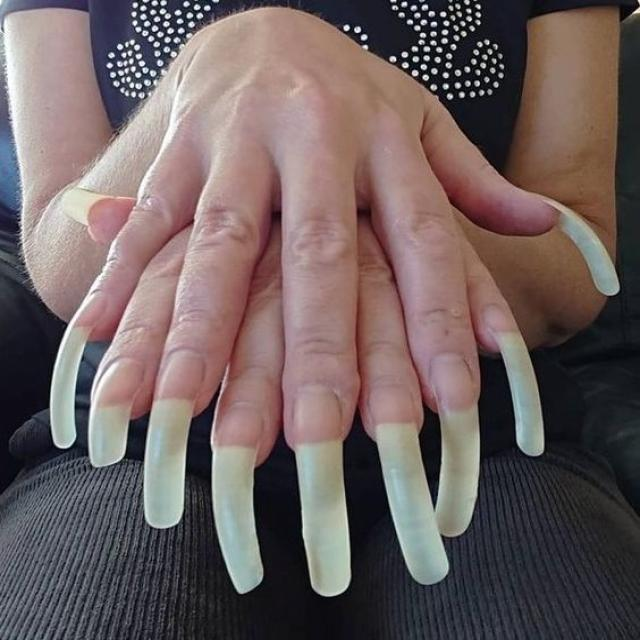Fingernail: (369, 375, 450, 586), (294, 387, 351, 596), (144, 350, 201, 530), (211, 402, 264, 594), (483, 305, 545, 458), (430, 351, 480, 537), (50, 290, 108, 448), (534, 193, 618, 296), (88, 356, 144, 467)
